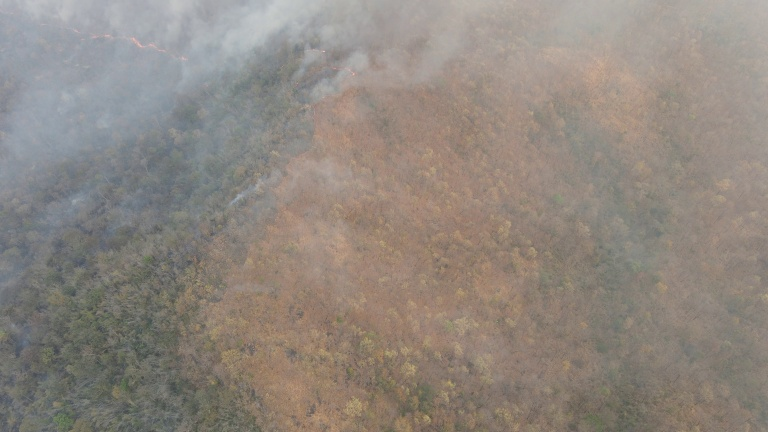fire: (8, 7, 189, 61), (298, 42, 359, 76)
smoke: (1, 1, 321, 223), (325, 1, 768, 93)
